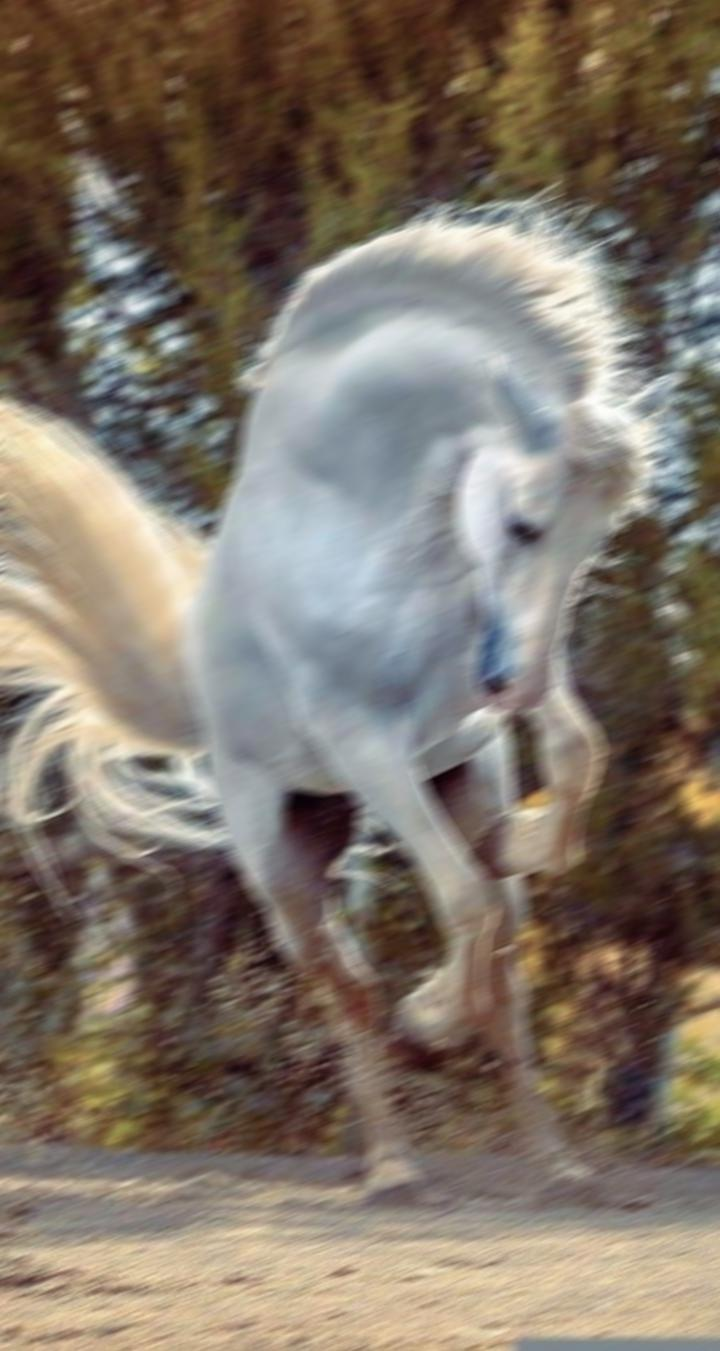horse: (0, 181, 687, 1205)
